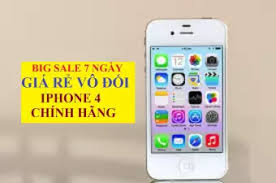iphone: (142, 15, 233, 183)
iphone4: (142, 15, 233, 183)
